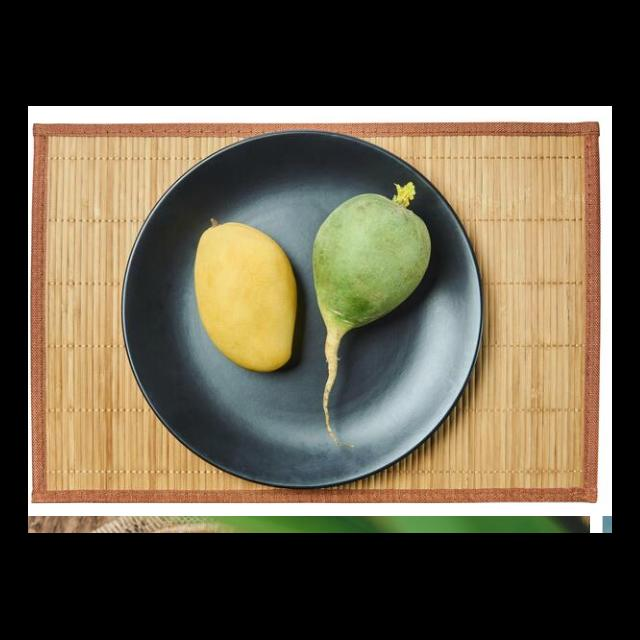mango: (193, 222, 296, 375)
